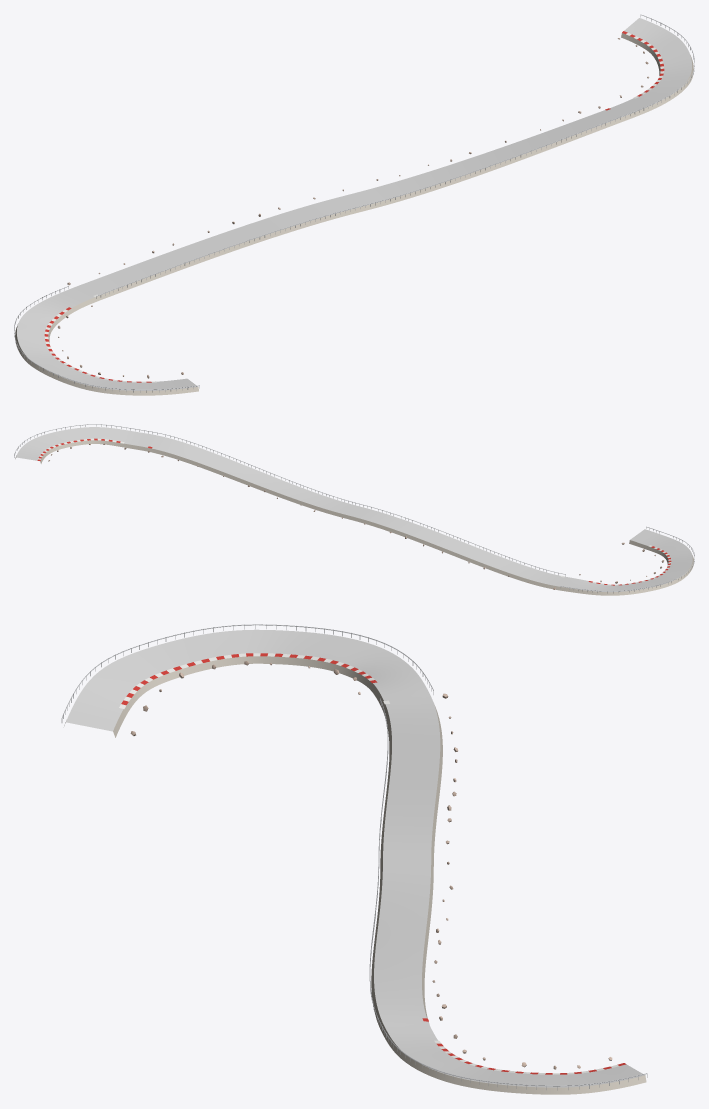
Rendered from SM_AsirMountains_Track_04.fbx.
The picture shows the model from 3 angles, top to bottom: view 1: azimuth 30°, elevation 25°; view 2: azimuth 150°, elevation 25°; view 3: azimuth 270°, elevation 25°; orthographic projection. The views are drawn at different scales.
Visible parts, largest first — view 1: SM_AsirMountains_Track_04; view 2: SM_AsirMountains_Track_04; view 3: SM_AsirMountains_Track_04.
Boxes of the visible parts, box(x1,y1,x2,y2) form: SM_AsirMountains_Track_04: box(14, 14, 694, 395); SM_AsirMountains_Track_04: box(14, 424, 694, 595); SM_AsirMountains_Track_04: box(61, 624, 647, 1094).
Bounding box in the file's own units: 30484 × 3421 × 13367.
